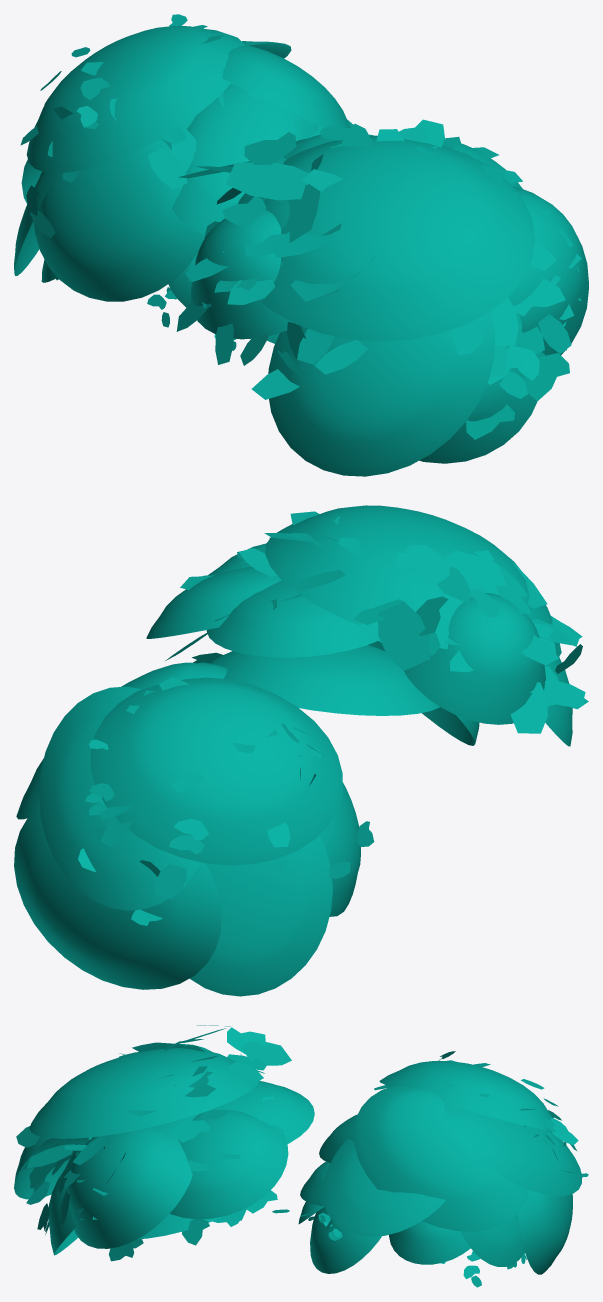
File: SM_LeafBushv4.fbx
3 renders of one model, top to bottom at view 1: azimuth 30°, elevation 25°; view 2: azimuth 150°, elevation 25°; view 3: azimuth 270°, elevation 25°, orthographic. The views are drawn at different scales.
Parts seen in each view (by area): view 1: Object001; view 2: Object001; view 3: Object001.
Part boxes in pixels (box(x1,y1,x2,y2)): Object001: box(14, 14, 588, 476); Object001: box(14, 505, 588, 996); Object001: box(14, 1025, 588, 1287).
Size of the model in its own units: 310 by 234 by 551.
